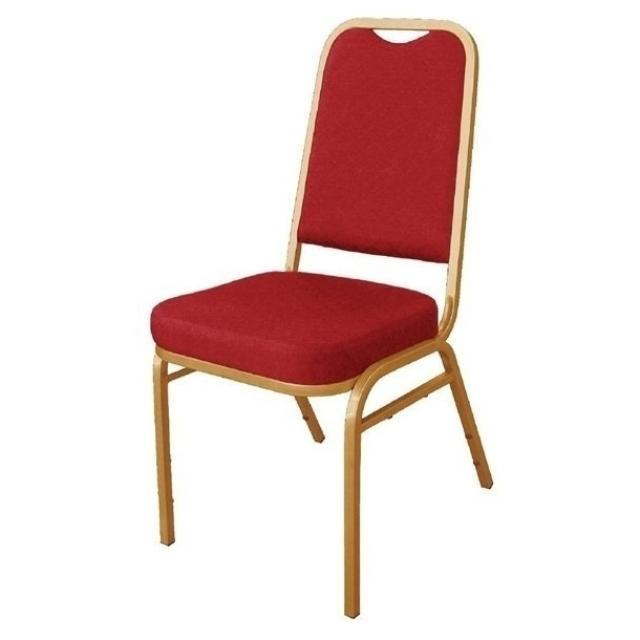chair: (148, 14, 500, 622)
